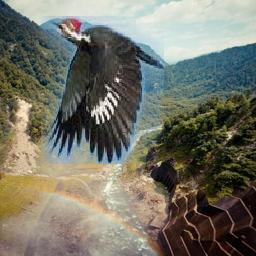Woodpecker: (42, 16, 165, 164)
